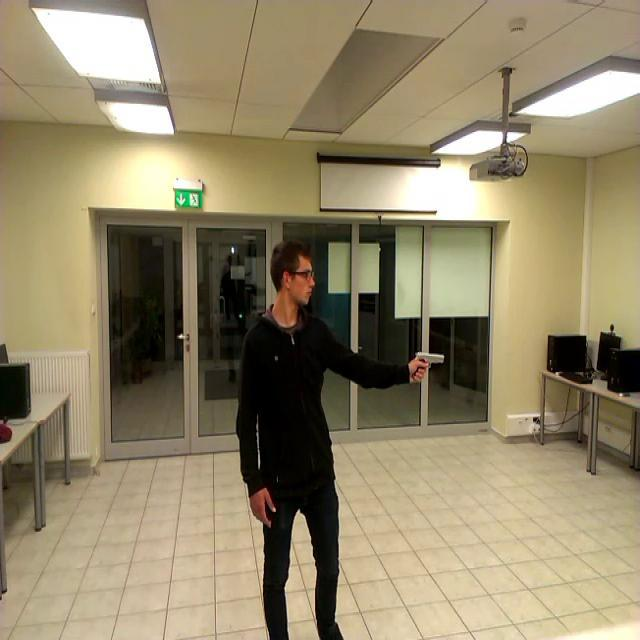Gun: (413, 351, 445, 378)
